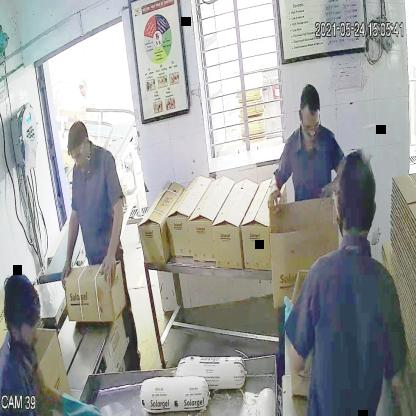goggles: (69, 144, 87, 163)
